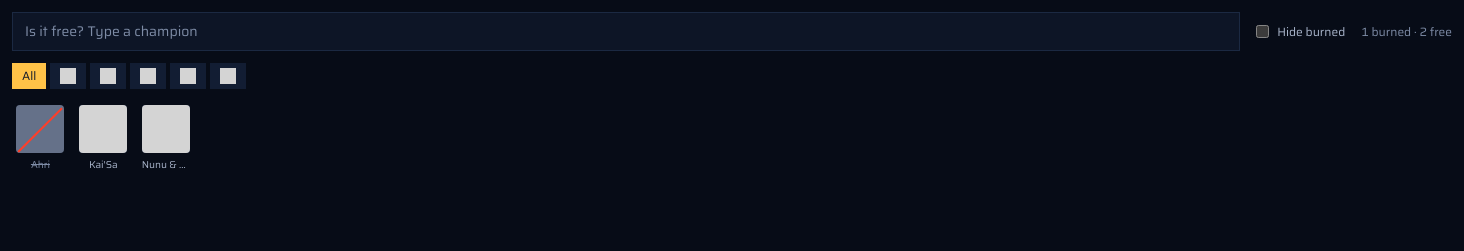
FearlessGrid › says who played a champion once it is selected, without corrections for a visitor
The image size is (1464, 251).
Click the button with aria-label "Ahri, burned" at (40,138), box [12,101,69,176]
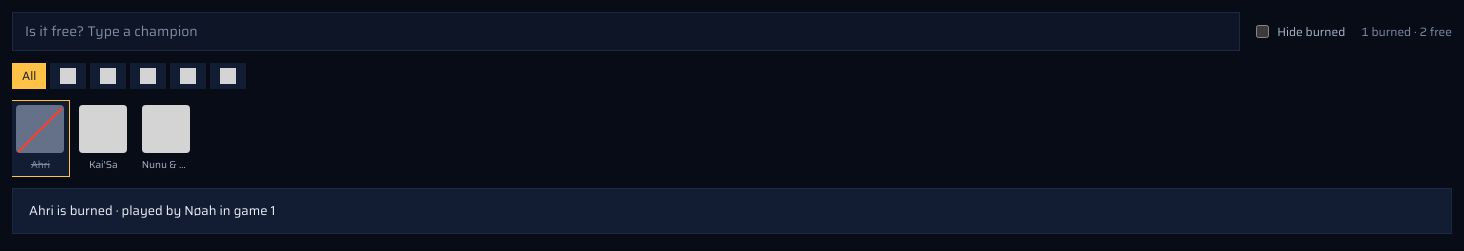
Result: the text "Ahri is burned · played by Nøah in game 1" is shown once at [29,200,275,221]
